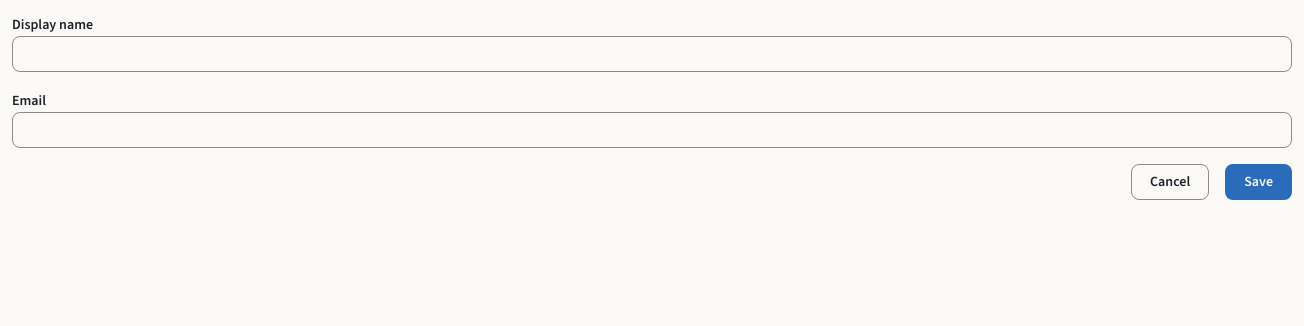
it: the form › puts the API's field problems on the fields and the rest at the top with the correlation id [TF-171 AC3, ADR-0027]
The width and height of the screenshot is (1304, 326).
Step 1. Click the field labelled "Display name" → click(652, 54), box x1=12 y1=36 x2=1292 y2=72
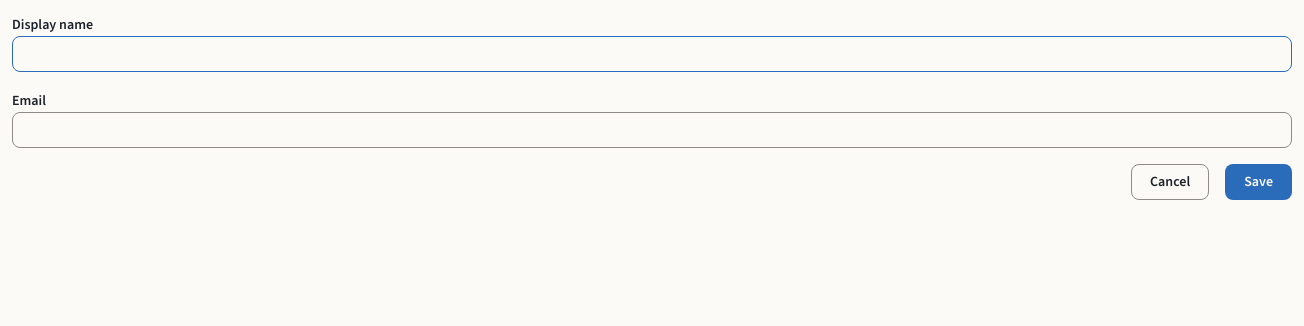
Step 2. Type keys "Ada"
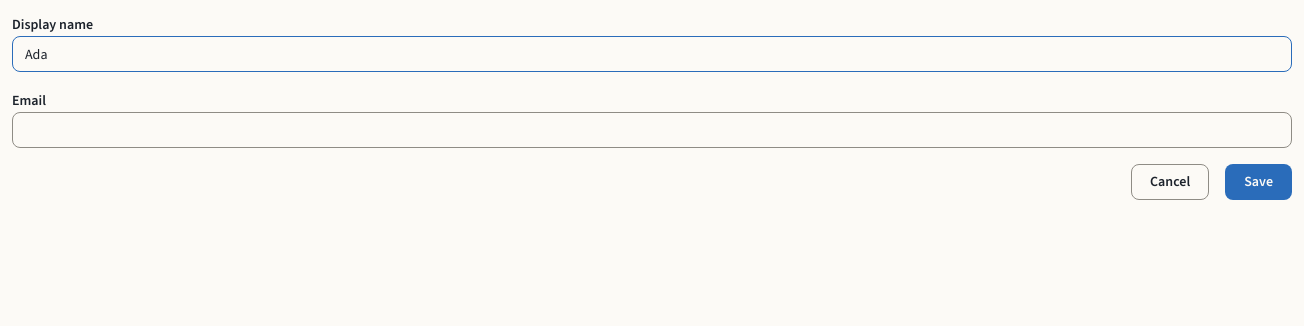
Step 3. Click the field labelled "Email" → click(652, 130), box x1=12 y1=112 x2=1292 y2=148
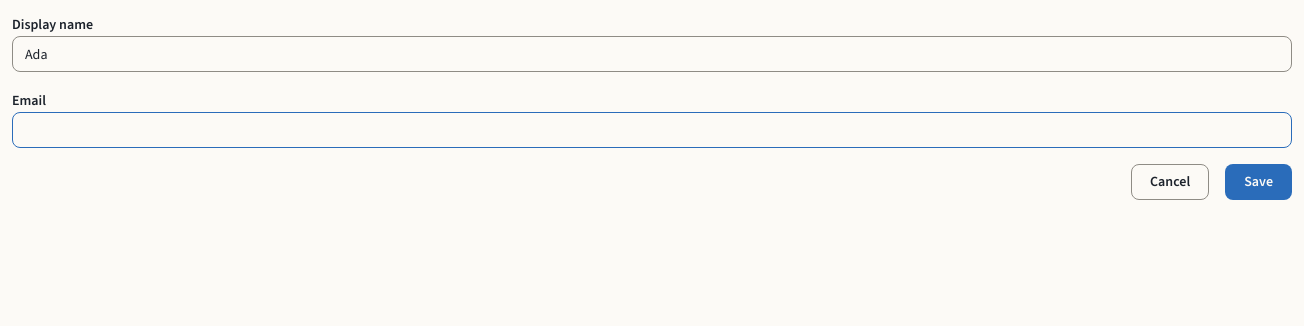
Step 4. Type keys "ada@example.com"
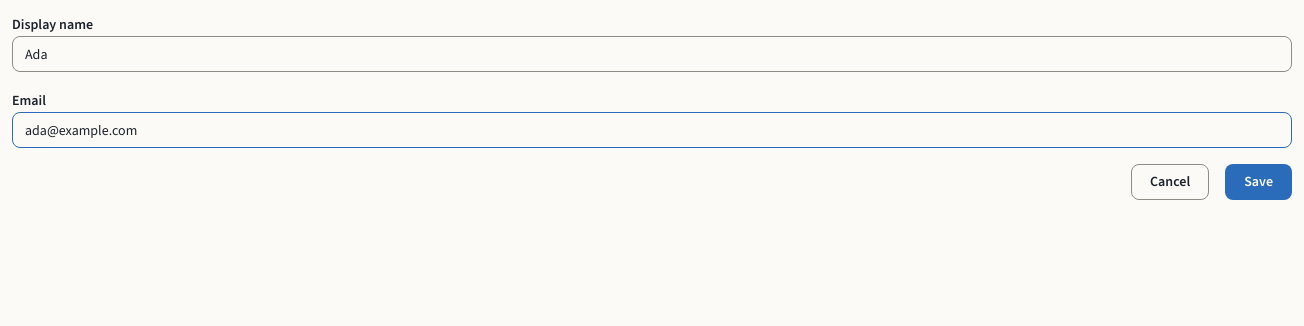
Step 5. Click the button "Save" → click(1259, 182), box x1=1225 y1=164 x2=1292 y2=200
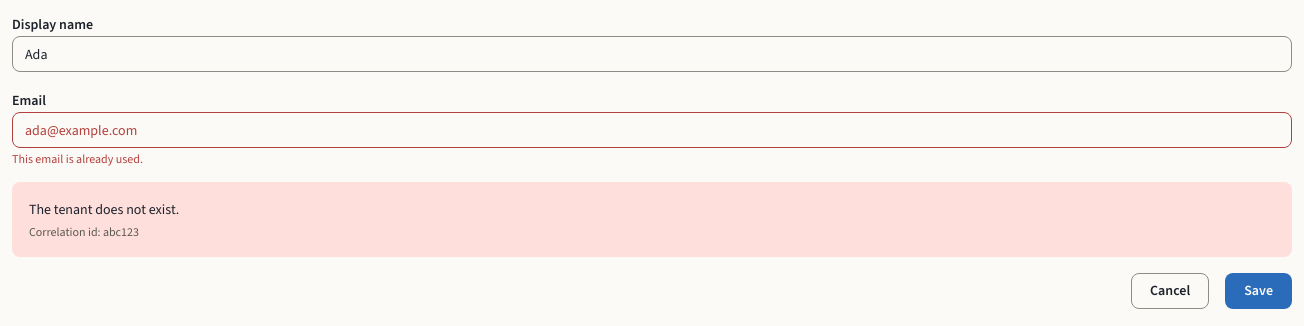
Expected: the text "This email is already used." is shown, x1=12 y1=151 x2=143 y2=167
Expected: the message shows "The tenant does not exist.", x1=29 y1=200 x2=179 y2=219
Expected: the message shows "abc123", x1=29 y1=224 x2=139 y2=240
